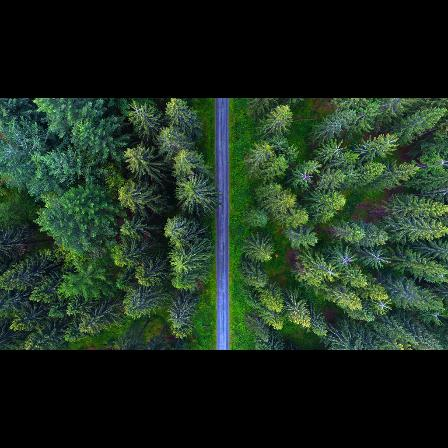Sick: (290, 164, 320, 190), (333, 247, 358, 272), (365, 247, 390, 271), (371, 295, 395, 315)
